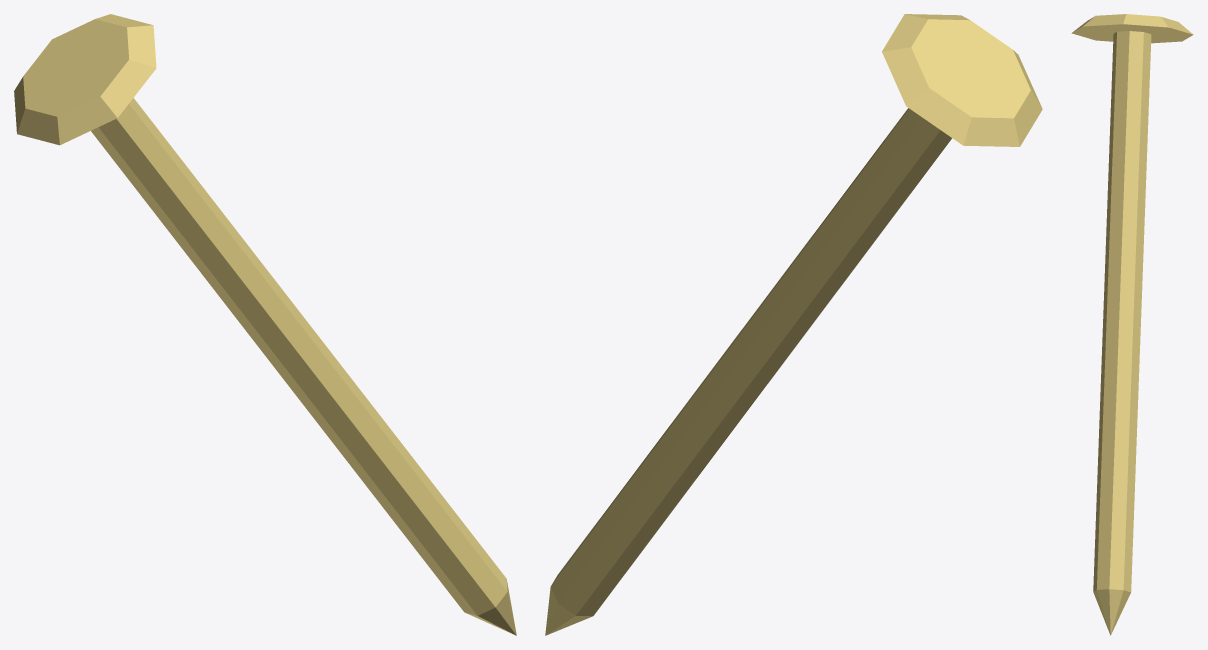
3 renders of one model, left to right at view 1: azimuth 30°, elevation 25°; view 2: azimuth 150°, elevation 25°; view 3: azimuth 270°, elevation 25°, orthographic. The views are drawn at different scales.
Visible parts, largest first — view 1: Circle.003; view 2: Circle.003; view 3: Circle.003.
Part boxes in pixels (<box>): Circle.003: <box>14,14,516,635</box>; Circle.003: <box>545,14,1042,635</box>; Circle.003: <box>1071,14,1193,635</box>.
Size of the model in its own units: 0.8794 by 1.22 by 0.2752.
